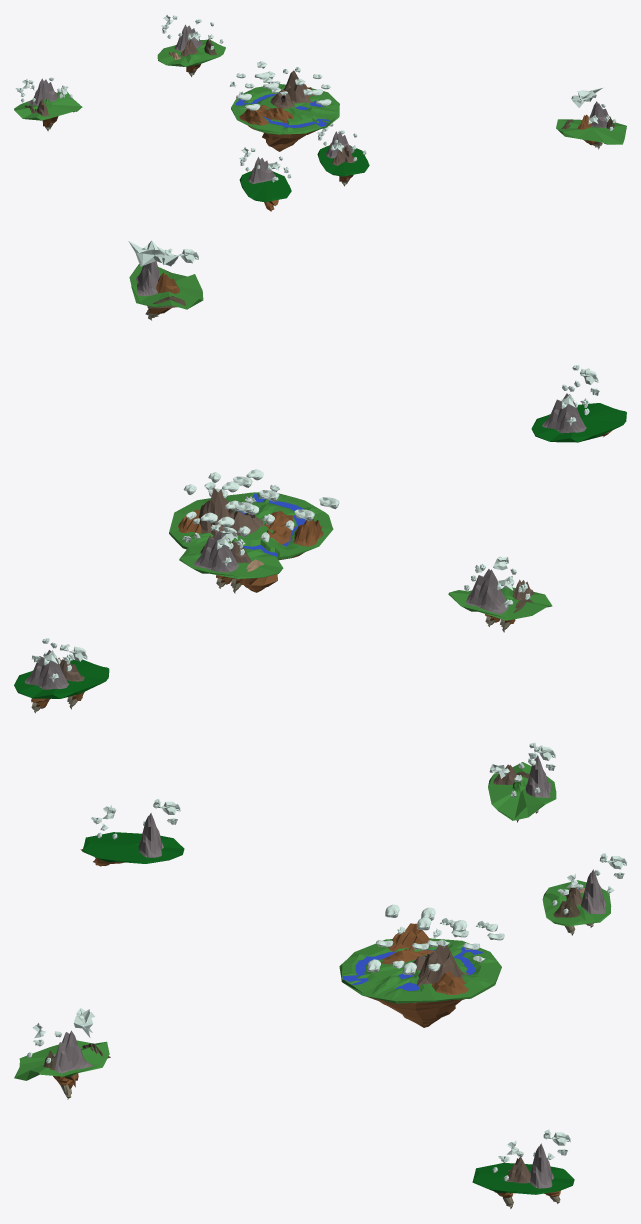
Rendered from inselnNEW01.fbx.
The picture shows the model from 3 angles, top to bottom: view 1: azimuth 30°, elevation 25°; view 2: azimuth 150°, elevation 25°; view 3: azimuth 270°, elevation 25°; orthographic projection. The views are drawn at different scales.
Visible parts, largest first — view 1: Ground, Ground_2_2, Ground_2_8, Ground_2_5, Ground_2_4, Ground_2_6, Water_2_13, Plane, Landschaft_20, Landschaft_1_8, Landschaft_1_4, Landschaft_1_5 (+5 smaller); view 2: Ground, Ground_2_8, Ground_2_6, Ground_2_2, Ground_2_5, Ground_2_4, Landschaft_1_4, Landschaft_1_5, Landschaft_1_8, Landschaft_1_6, Landschaft_20, Cloud_1_12_2 (+1 smaller); view 3: Ground, Ground_2_8, Ground_2_4, Ground_2_6, Ground_2_2, Ground_2_5, Water_2_13, Landschaft_20, Landschaft_1_2, Plane, Landschaft_1_8, Landschaft_1_5 (+3 smaller).
Boxes of the visible parts, bbox=[...] form: Ground: bbox=[231, 84, 339, 134]; Ground_2_2: bbox=[556, 119, 626, 144]; Ground_2_8: bbox=[239, 171, 291, 202]; Ground_2_5: bbox=[157, 39, 225, 66]; Ground_2_4: bbox=[14, 91, 82, 120]; Ground_2_6: bbox=[317, 145, 369, 176]; Water_2_13: bbox=[248, 126, 317, 151]; Plane: bbox=[235, 94, 330, 128]; Landschaft_20: bbox=[274, 70, 312, 103]; Landschaft_1_8: bbox=[248, 157, 276, 183]; Landschaft_1_4: bbox=[27, 78, 58, 105]; Landschaft_1_5: bbox=[174, 24, 202, 51]; Ground: bbox=[169, 492, 333, 559]; Ground_2_8: bbox=[531, 403, 626, 442]; Ground_2_6: bbox=[14, 659, 109, 698]; Ground_2_2: bbox=[129, 264, 203, 309]; Ground_2_5: bbox=[179, 545, 283, 578]; Ground_2_4: bbox=[448, 587, 552, 620]; Landschaft_1_4: bbox=[465, 569, 508, 614]; Landschaft_1_5: bbox=[193, 531, 238, 572]; Landschaft_1_8: bbox=[542, 393, 586, 433]; Landschaft_1_6: bbox=[24, 650, 69, 689]; Landschaft_20: bbox=[198, 488, 234, 537]; Cloud_1_12_2: bbox=[128, 240, 178, 266]; Ground: bbox=[339, 938, 501, 1003]; Ground_2_8: bbox=[82, 832, 184, 863]; Ground_2_4: bbox=[488, 762, 556, 820]; Ground_2_6: bbox=[472, 1163, 574, 1194]; Ground_2_2: bbox=[14, 1040, 109, 1080]; Ground_2_5: bbox=[542, 880, 611, 926]; Water_2_13: bbox=[368, 997, 464, 1027]; Landschaft_20: bbox=[417, 944, 468, 986]; Landschaft_1_2: bbox=[53, 1030, 93, 1076]; Plane: bbox=[342, 947, 482, 990]; Landschaft_1_8: bbox=[138, 813, 163, 857]; Landschaft_1_5: bbox=[581, 869, 606, 914].
Bounding box in the file's own units: 42424 × 16657 × 35250.
